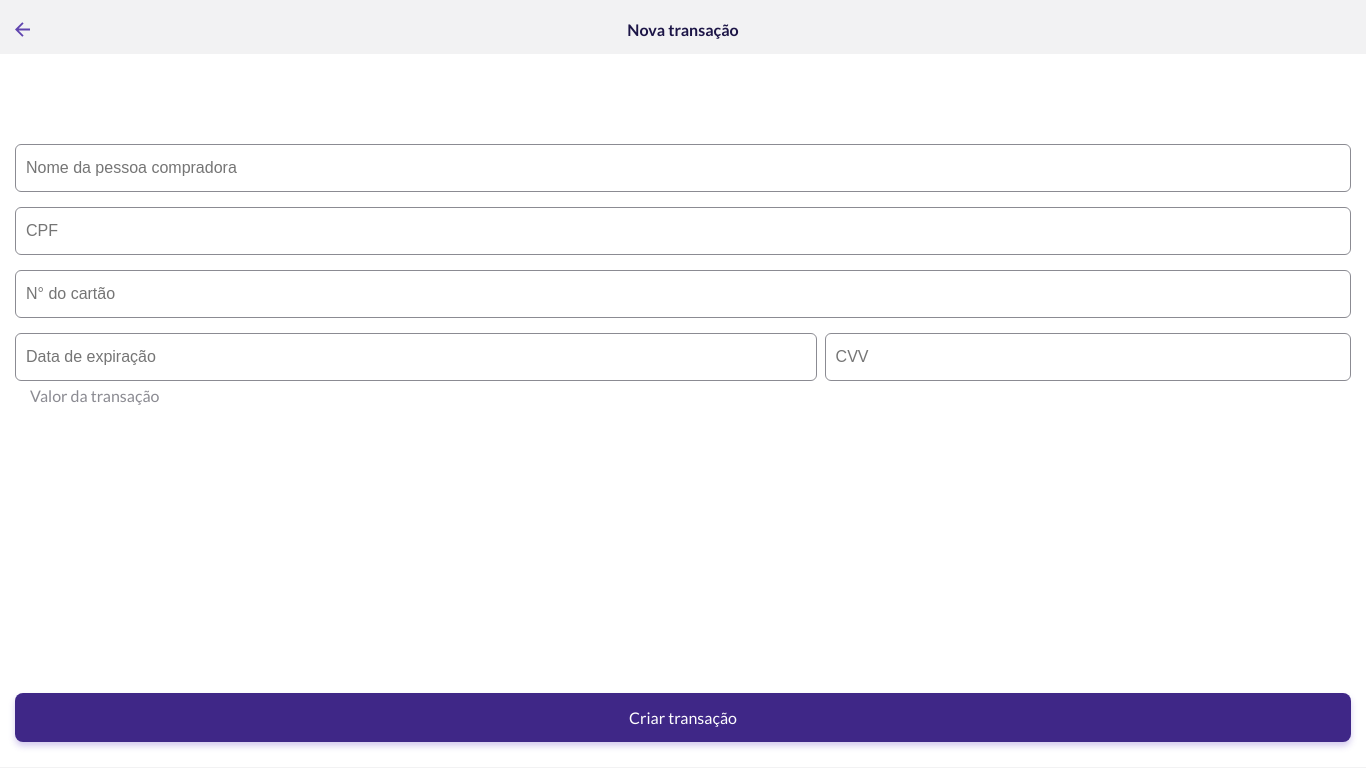
it: <TransactionsCreate /> › should request data on first page load
What coordinates should you click on to do the following:
click the link
I would click on:
 (23, 30)
Its box is [15,22,30,37].
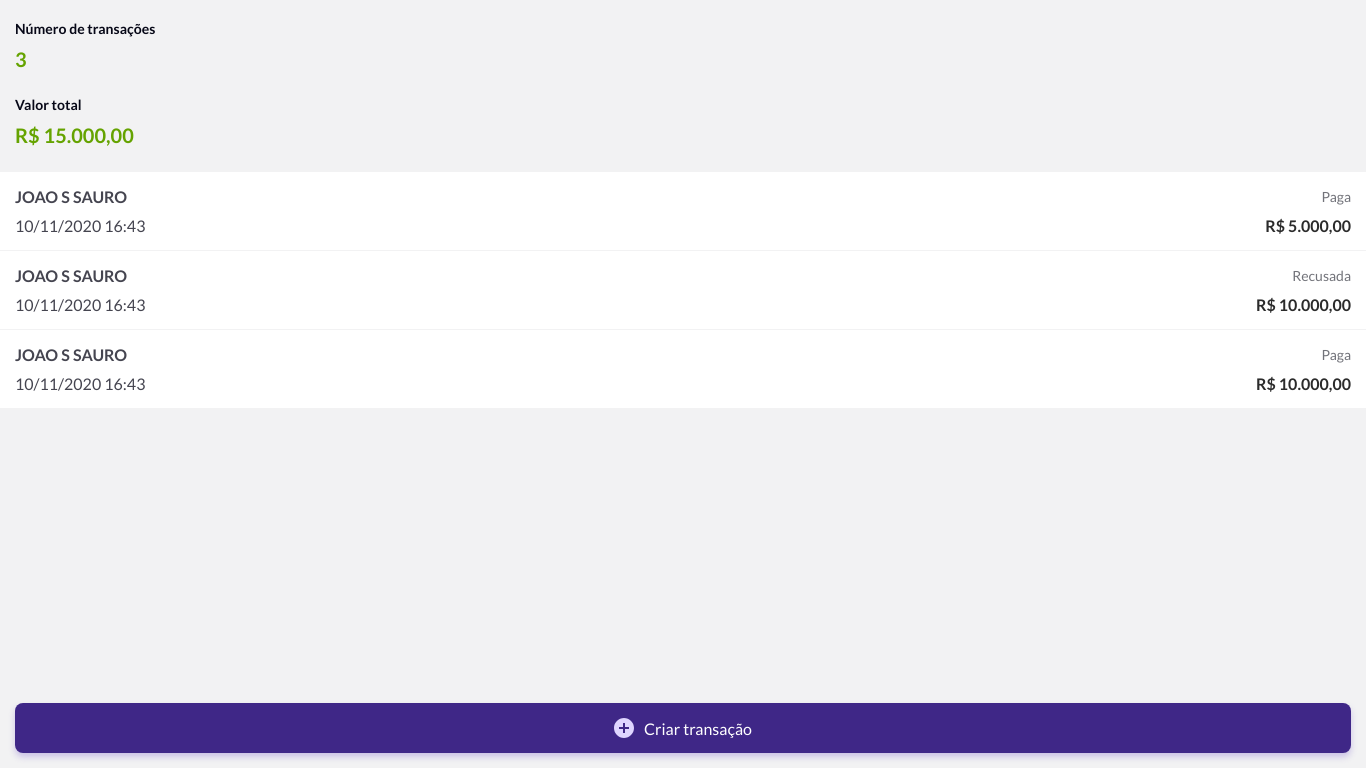
Expected: the text "Número de transações" is shown, [15,20,155,37]
Expected: the text "3" is shown, [15,47,27,71]
Expected: the text "Valor total" is shown, [15,96,82,113]
